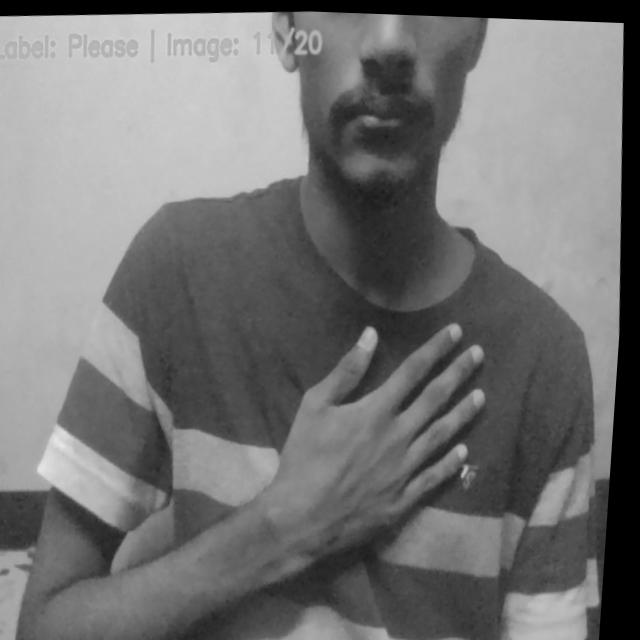Please: (246, 310, 502, 584)
